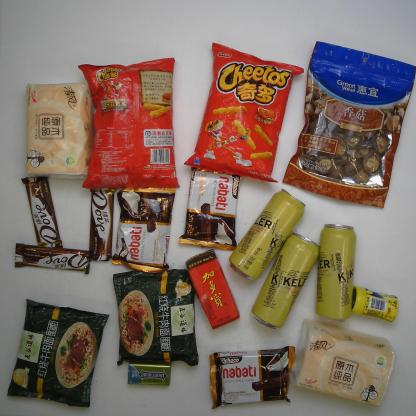Alcohol: (228, 188, 307, 282), (250, 230, 320, 330), (314, 223, 357, 324)
Chocolate: (21, 175, 64, 250), (13, 242, 91, 276), (87, 188, 115, 262)
Dessert: (111, 186, 177, 274), (208, 344, 296, 410), (178, 166, 243, 252)
Dried Food: (282, 40, 416, 209)
Drink: (184, 248, 241, 331)
Gum: (351, 284, 400, 324), (126, 362, 172, 386)
Instant Noodles: (5, 297, 111, 409), (112, 268, 200, 368)
Puffed Food: (184, 41, 306, 184), (77, 56, 182, 191)
Tissue: (288, 318, 396, 408), (24, 81, 95, 182)
